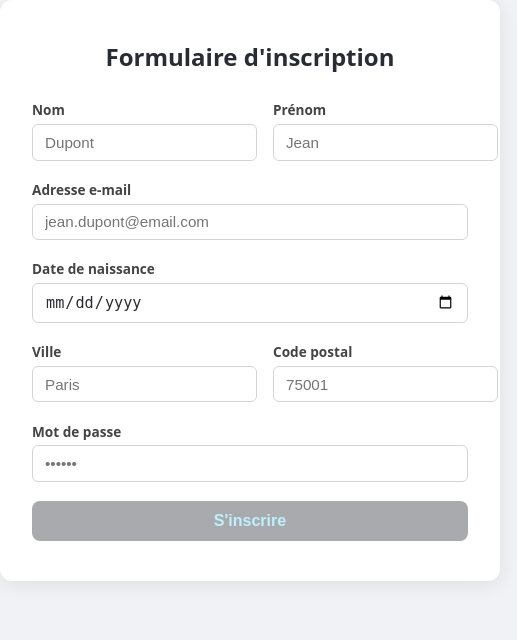
it: shows a red error when nom contains digits after blur
Type "Tepixtle1" into the field labelled "Nom" at point(144, 142), box [32,124,257,161]
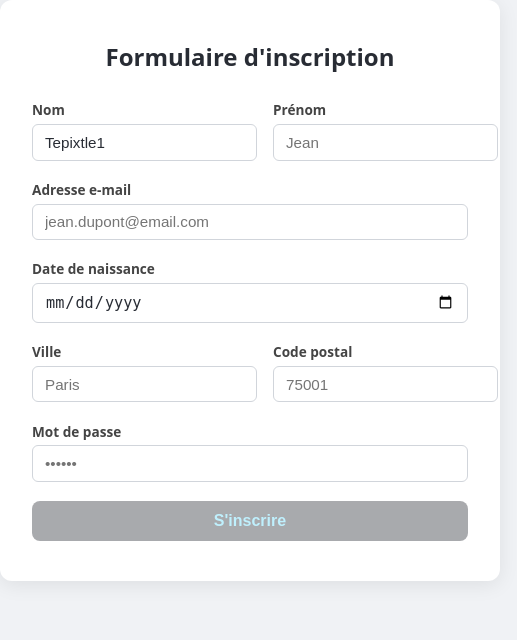
Leave the field labelled "Nom", box [32,124,257,161]
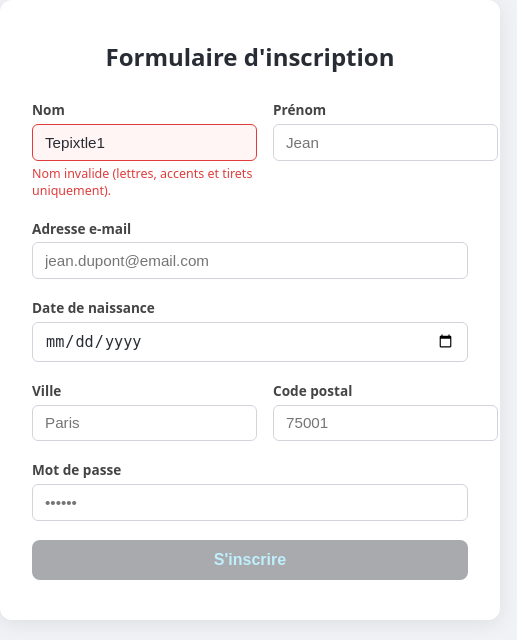
expect the text "Nom invalide (lettres, accents et tirets uniquement)." is shown: met, box [32,165,257,199]
